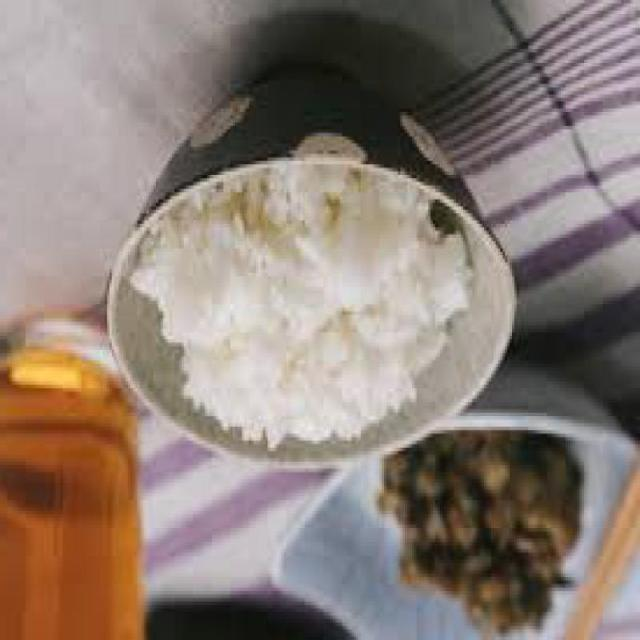nasi_putih: (132, 162, 474, 452)
